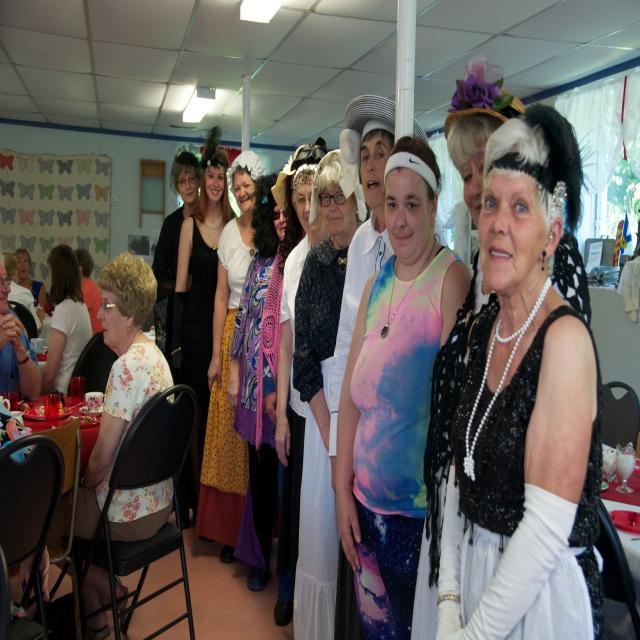body: (424, 92, 630, 640), (407, 61, 594, 639), (331, 131, 472, 640), (41, 248, 183, 640), (328, 94, 444, 494), (291, 159, 368, 640), (193, 147, 268, 569), (270, 162, 330, 629), (272, 157, 331, 629), (172, 145, 238, 542), (233, 171, 293, 594), (150, 143, 202, 399), (0, 412, 54, 640), (38, 243, 93, 397), (3, 252, 46, 334), (3, 252, 42, 335), (73, 245, 105, 336), (12, 247, 48, 313)
